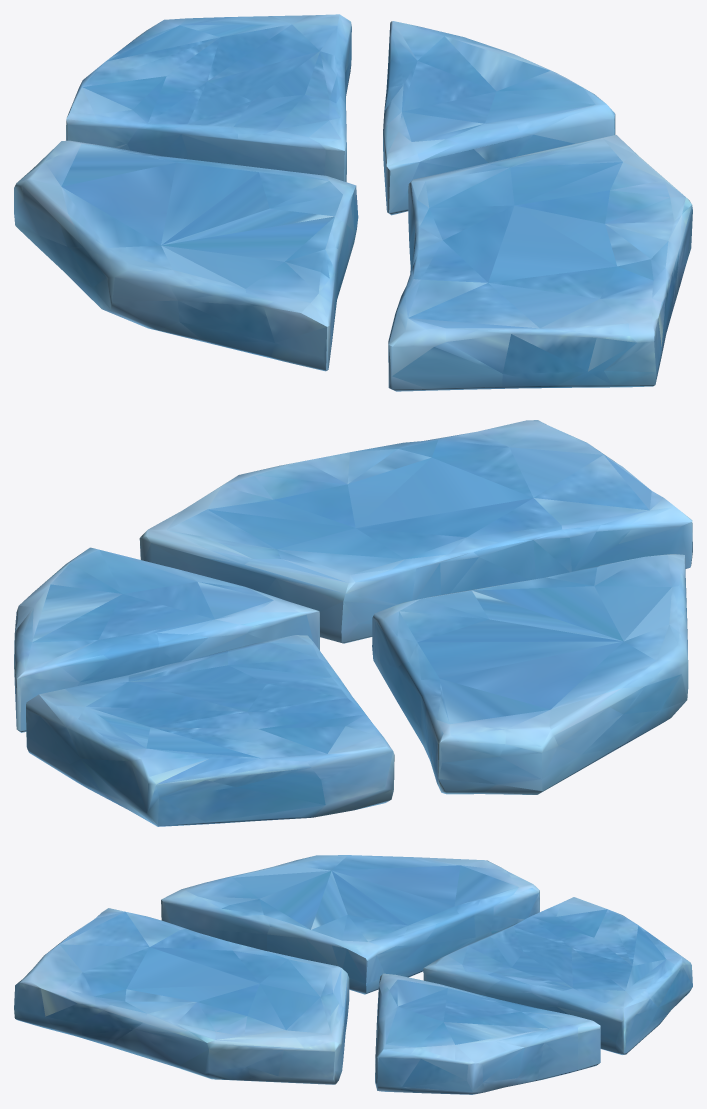
The model's file is placa_hielo_rota_1200.glb.
The picture shows the model from 3 angles, top to bottom: view 1: azimuth 30°, elevation 25°; view 2: azimuth 150°, elevation 25°; view 3: azimuth 270°, elevation 25°; orthographic projection. The views are drawn at different scales.
Parts seen in each view (by area): view 1: placa_hielo_rota_malla; view 2: placa_hielo_rota_malla; view 3: placa_hielo_rota_malla.
Boxes of the visible parts, x1,y1,x2,y2 form: placa_hielo_rota_malla: (14, 14, 692, 391); placa_hielo_rota_malla: (14, 420, 692, 826); placa_hielo_rota_malla: (14, 855, 692, 1094).
Size of the model in its own units: 0.2609 by 0.0277 by 0.3712.
Materials: 1 (1 with a texture image).
